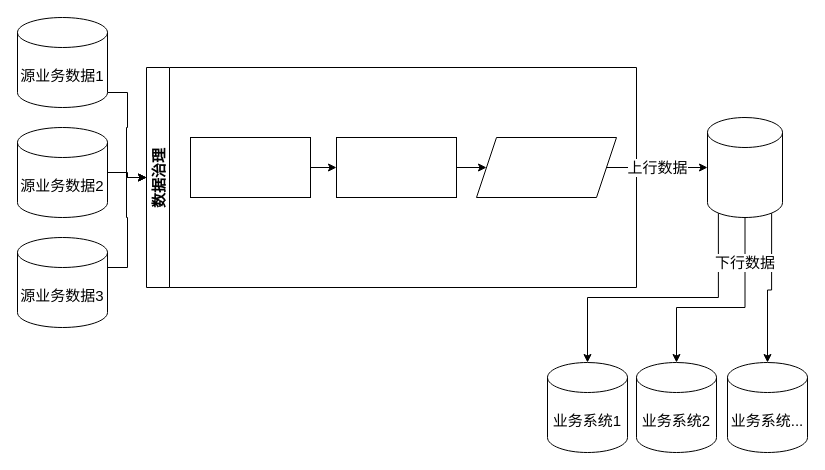
Some shapes in this 825 by 470 pixel diagram are drawn without their labels. Here are the shapes that lost their labels. From the top down, the centre of each, then its label:
At (250,167): "数据标准平台".
At (396,167): "通过对标制作 标准模型".
At (546,167): "数据中心表结构".
At (744,167): "数据中心".
